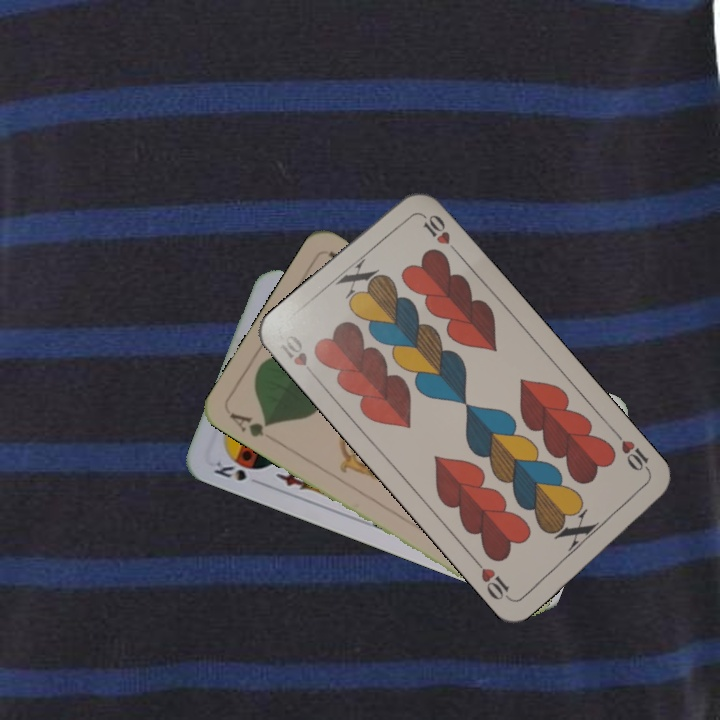GA: (225, 408, 273, 440)
H10: (275, 331, 320, 381), (611, 428, 654, 477)
SK: (209, 455, 262, 484)
